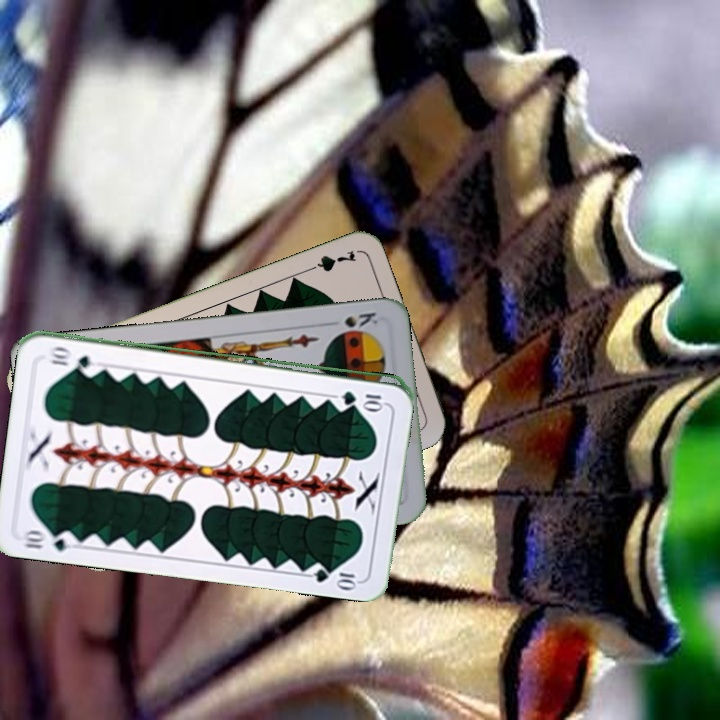G10: (18, 525, 78, 554), (337, 387, 388, 408)
G7: (300, 246, 359, 275)
SK: (334, 308, 381, 336)
